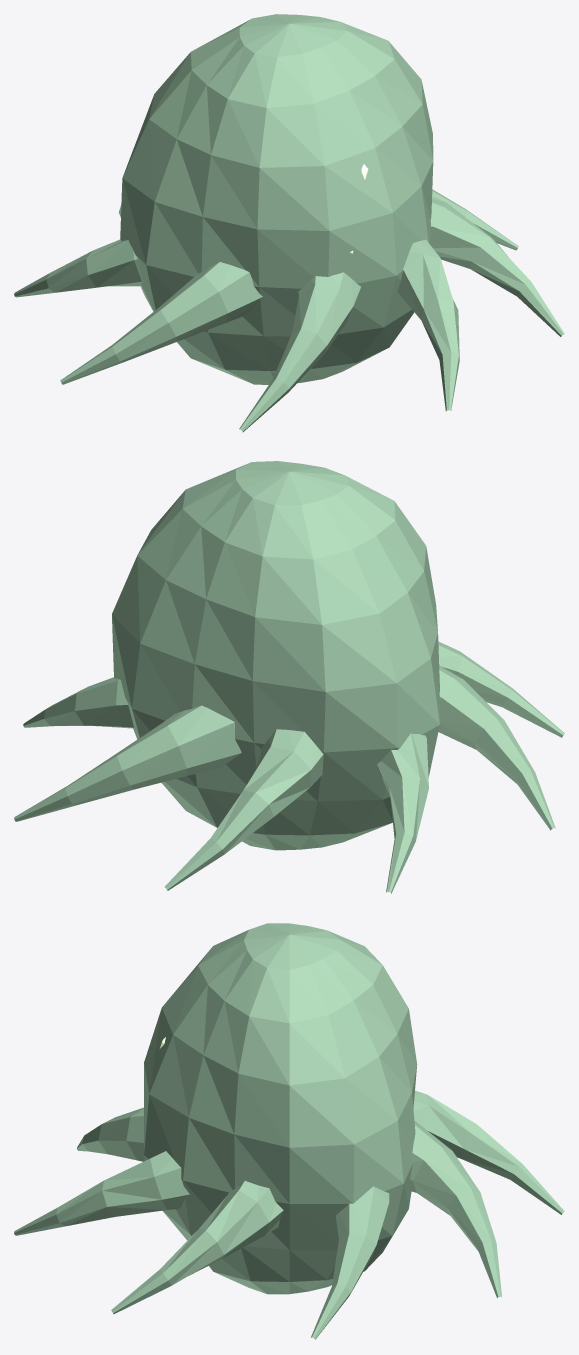
File: seed.glb
3 views of the same model, one above another, from view 1: azimuth 30°, elevation 25°; view 2: azimuth 150°, elevation 25°; view 3: azimuth 270°, elevation 25° (orthographic). The views are drawn at different scales.
Visible parts, largest first — view 1: Body, Appendage_3, Appendage_2, Appendage_0, Appendage_1, Appendage_4, Appendage_7; view 2: Body, Appendage_6, Appendage_5, Appendage_3, Appendage_4, Appendage_7, Appendage_2; view 3: Body, Appendage_0, Appendage_1, Appendage_6, Appendage_5, Appendage_7, Appendage_2.
Boxes of the visible parts, left/top/right/bottom form: Body: left=120, top=14, right=433, bottom=384; Appendage_3: left=60, top=262, right=262, bottom=384; Appendage_2: left=239, top=272, right=360, bottom=432; Appendage_0: left=429, top=196, right=564, bottom=336; Appendage_1: left=397, top=239, right=459, bottom=410; Appendage_4: left=14, top=239, right=143, bottom=297; Appendage_7: left=432, top=189, right=518, bottom=250; Body: left=112, top=461, right=440, bottom=850; Appendage_6: left=14, top=705, right=241, bottom=821; Appendage_5: left=164, top=729, right=323, bottom=890; Appendage_3: left=438, top=665, right=555, bottom=830; Appendage_4: left=377, top=733, right=428, bottom=893; Appendage_7: left=23, top=677, right=133, bottom=728; Appendage_2: left=438, top=641, right=564, bottom=737; Body: left=144, top=923, right=417, bottom=1294; Appendage_0: left=111, top=1181, right=283, bottom=1313; Appendage_1: left=14, top=1151, right=189, bottom=1235; Appendage_6: left=410, top=1120, right=501, bottom=1297; Appendage_5: left=413, top=1090, right=564, bottom=1214; Appendage_7: left=311, top=1186, right=389, bottom=1339; Appendage_2: left=77, top=1107, right=145, bottom=1161.
Bounding box in the file's own units: 0.5685 × 0.396 × 0.5685.
